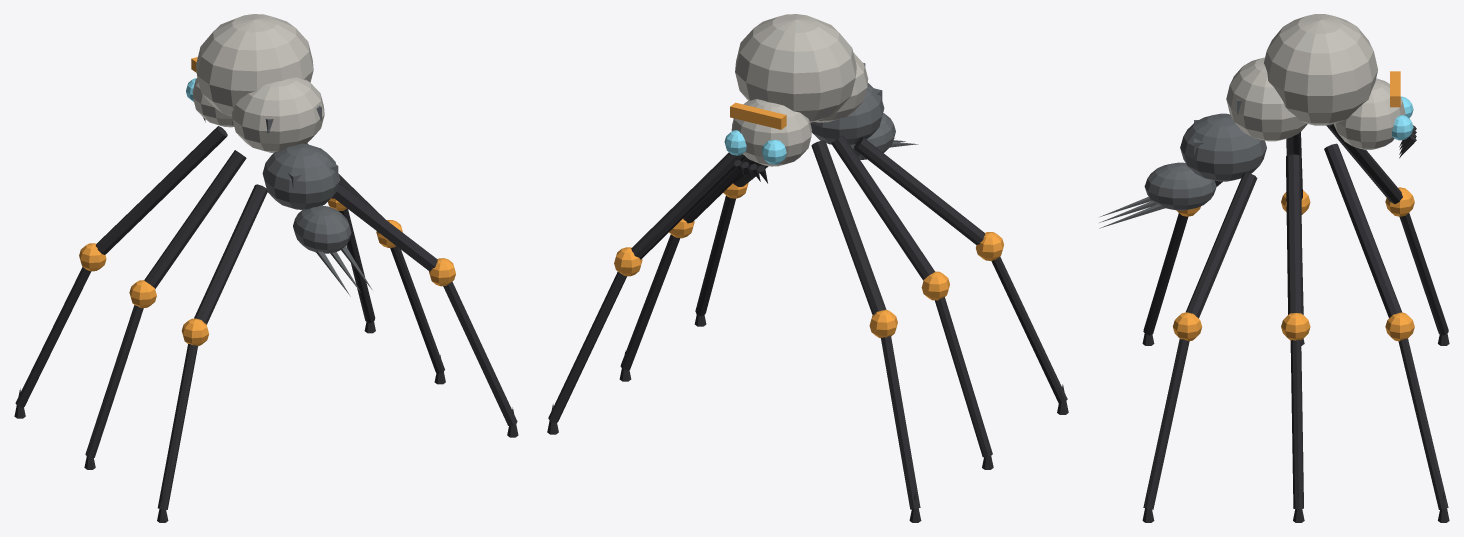
The model's file is SM_Unit_AshHopper.glb.
3 views of the same model, side by side, from view 1: azimuth 30°, elevation 25°; view 2: azimuth 150°, elevation 25°; view 3: azimuth 270°, elevation 25° (orthographic). The views are drawn at different scales.
Parts seen in each view (by area): view 1: SM_Unit_AshHopper; view 2: SM_Unit_AshHopper; view 3: SM_Unit_AshHopper.
Boxes of the visible parts, x1=… form: SM_Unit_AshHopper: x1=14, y1=14, x2=518, y2=522; SM_Unit_AshHopper: x1=547, y1=14, x2=1068, y2=522; SM_Unit_AshHopper: x1=1099, y1=14, x2=1449, y2=522.
Bounding box in the file's own units: 1.6 × 1.69 × 1.31.
